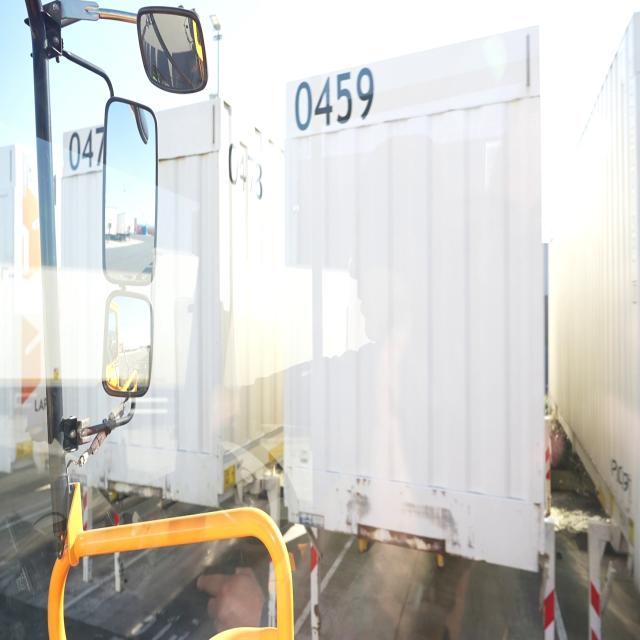Code: (291, 64, 384, 140)
